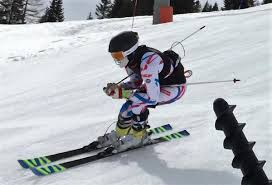skier: (20, 14, 222, 176)
